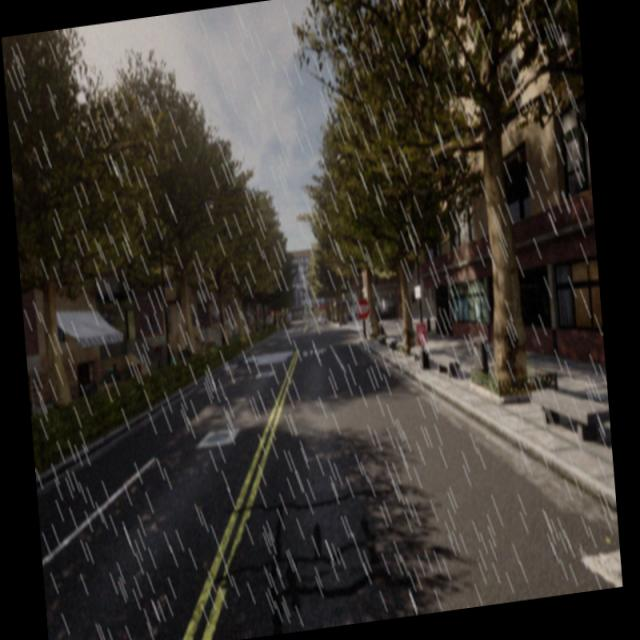stop sign: (354, 295, 372, 320)
